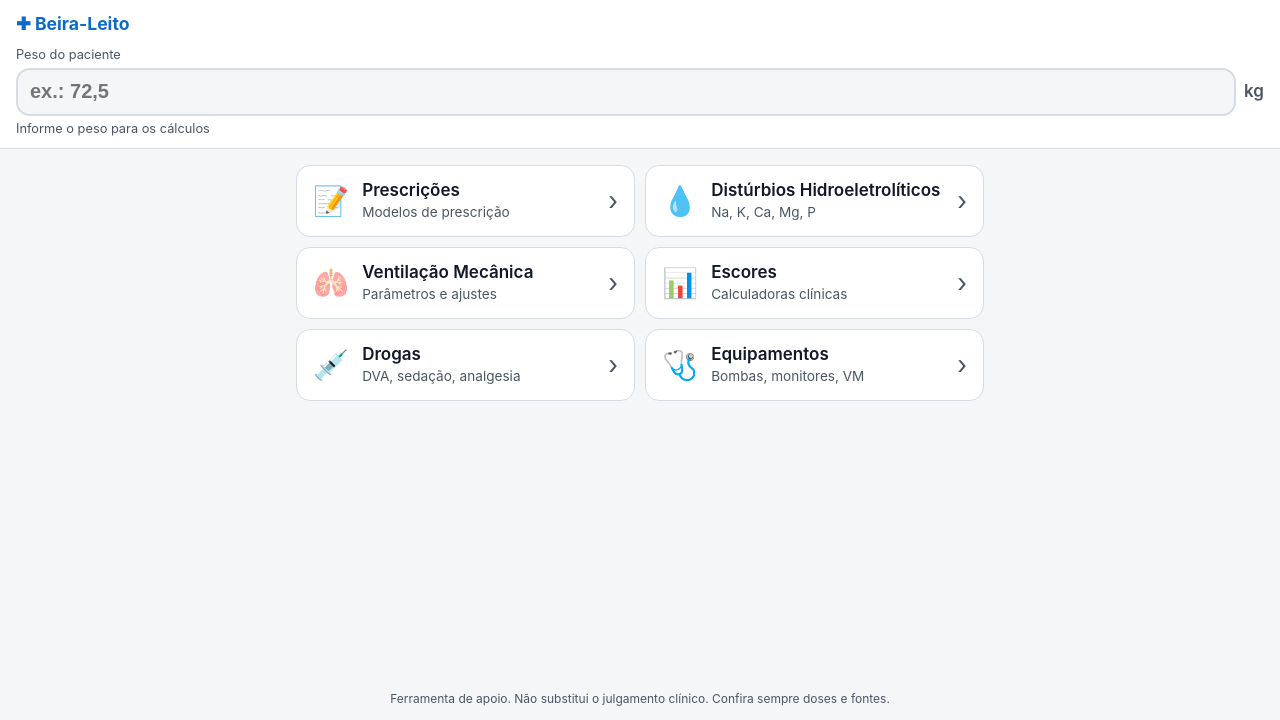
Test: página inicial › abre a página "Equipamentos"
Click the link "🩺 Equipamentos Bombas, monitores, VM ›". click: click(814, 365)
box: x1=645 y1=329 x2=984 y2=401
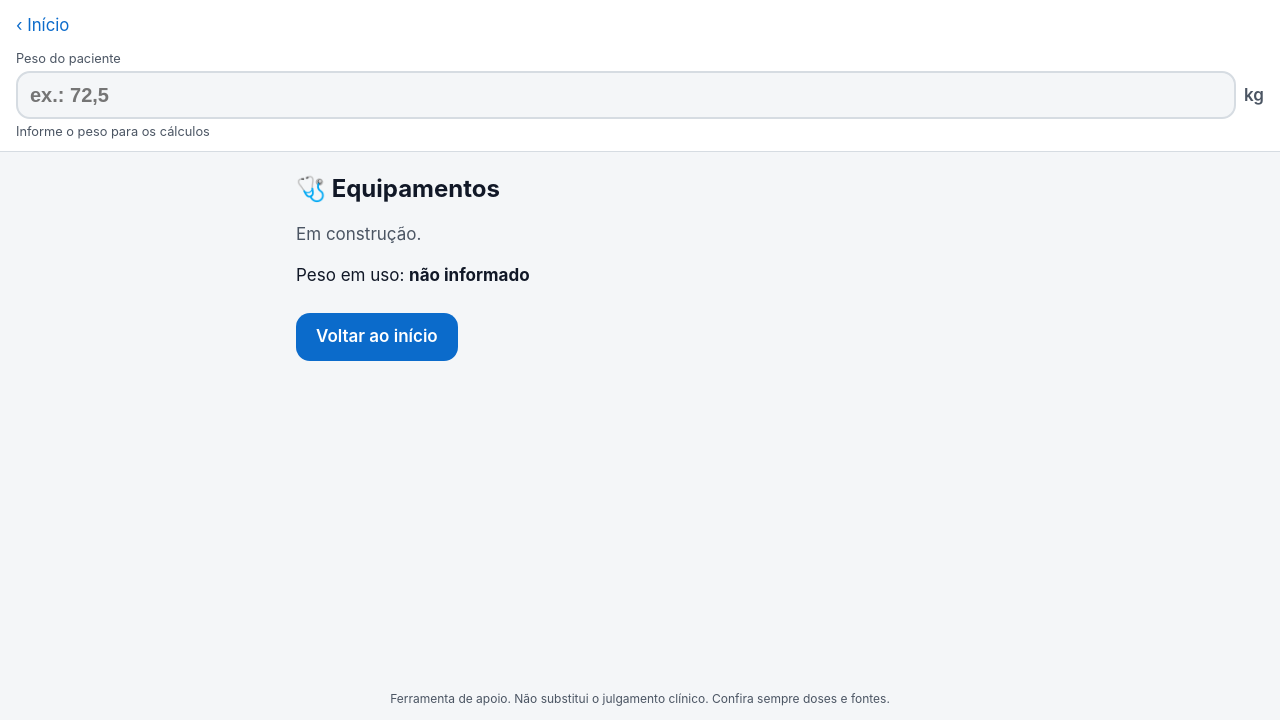
Check: the heading shows "Equipamentos", box x1=332 y1=174 x2=500 y2=203
Check: the text "Em construção." is shown, box x1=296 y1=224 x2=421 y2=244
